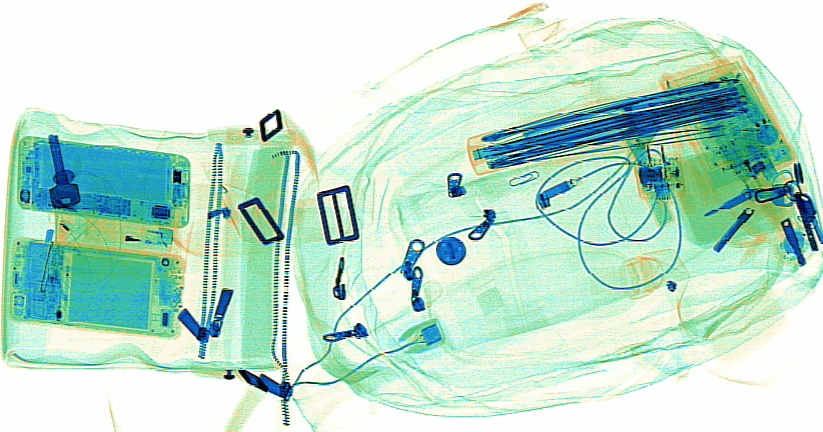lighter: (713, 104, 763, 176), (76, 215, 172, 249)
